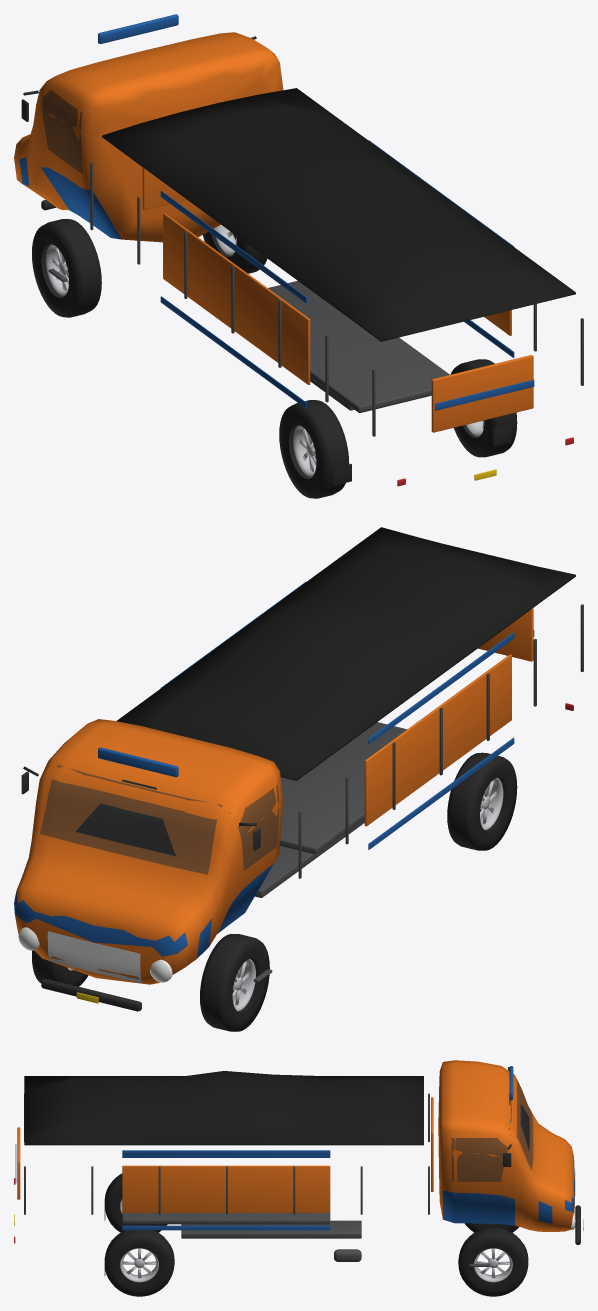
File: lorry_0.glb
The picture shows the model from 3 angles, top to bottom: view 1: azimuth 30°, elevation 25°; view 2: azimuth 150°, elevation 25°; view 3: azimuth 270°, elevation 25°; orthographic projection. The views are drawn at different scales.
Parts seen in each view (by area): view 1: body, wheel_0, wheel_2, wheel_3, wheel_1; view 2: body, wheel_0, wheel_2, wheel_1; view 3: body, wheel_1, wheel_3, wheel_2.
Part boxes in pixels (x1,y1,x2,y2): body: (14, 14, 583, 486); wheel_0: (32, 219, 101, 317); wheel_2: (279, 400, 349, 498); wheel_3: (450, 359, 517, 457); wheel_1: (203, 225, 267, 273); body: (14, 527, 583, 1011); wheel_0: (200, 934, 269, 1031); wheel_2: (447, 752, 517, 850); wheel_1: (32, 950, 88, 986); body: (14, 1060, 583, 1275); wheel_1: (458, 1227, 528, 1296); wheel_3: (104, 1230, 174, 1296); wheel_2: (104, 1173, 167, 1232).
Size of the model in its own units: 2.79 by 2.94 by 8.22.
